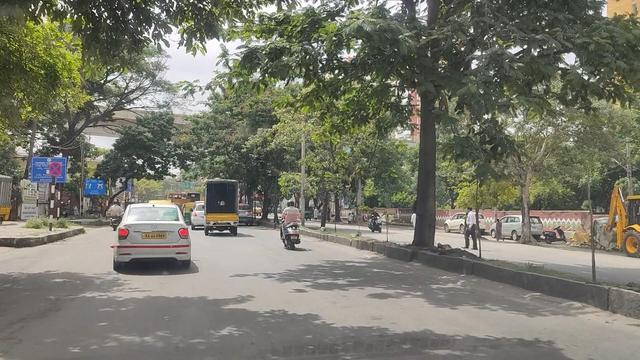HMV: (203, 177, 241, 231)
LMV: (120, 203, 192, 277), (275, 198, 301, 248)
